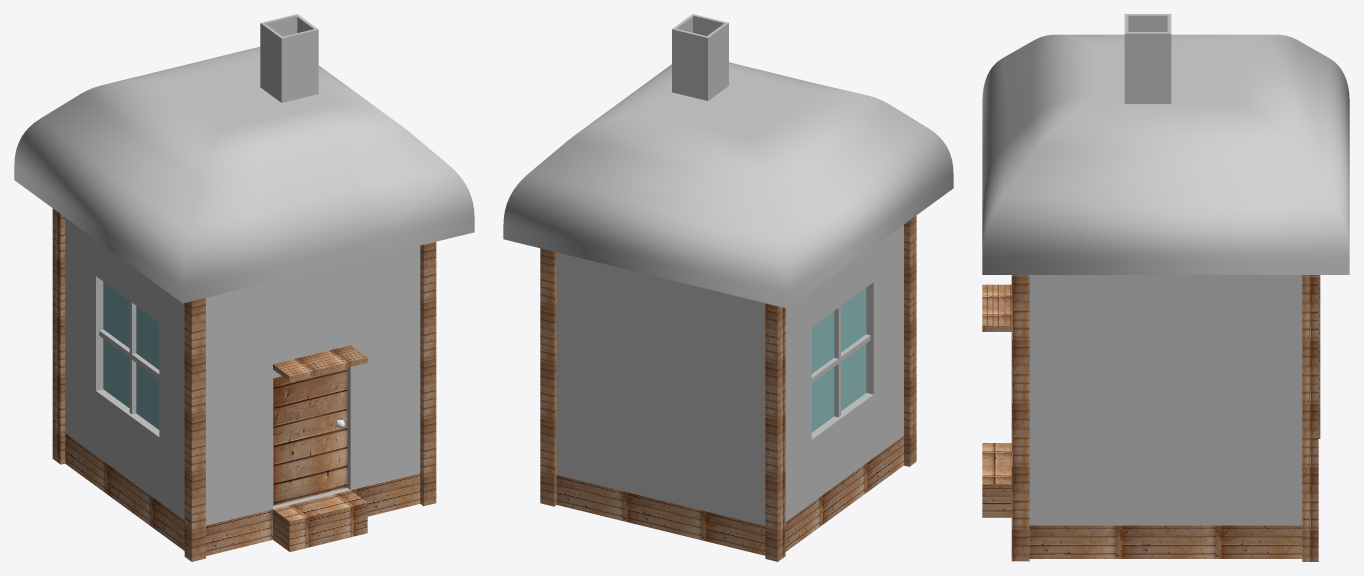
Rendered from house.FBX.
The picture shows the model from 3 angles, left to right: view 1: azimuth 30°, elevation 25°; view 2: azimuth 150°, elevation 25°; view 3: azimuth 270°, elevation 25°; orthographic projection. The views are drawn at different scales.
Visible parts, largest first — view 1: Roof, House, Line003, Door, Base, Window01, Chimney, Entrance, Door Cover; view 2: Roof, House, Line003, Base, Window01, Chimney; view 3: Roof, House, Line003, Base, Chimney, Entrance, Door Cover.
Boxes of the visible parts, bbox=[...] form: Roof: bbox=[14, 46, 474, 303]; House: bbox=[65, 218, 420, 525]; Line003: bbox=[52, 208, 436, 561]; Door: bbox=[273, 368, 347, 505]; Base: bbox=[65, 433, 420, 555]; Window01: bbox=[103, 282, 159, 429]; Chimney: bbox=[260, 14, 318, 102]; Entrance: bbox=[273, 490, 367, 551]; Door Cover: bbox=[273, 345, 367, 381]; Roof: bbox=[503, 62, 953, 308]; House: bbox=[556, 225, 903, 525]; Line003: bbox=[540, 215, 916, 561]; Base: bbox=[556, 436, 903, 555]; Window01: bbox=[811, 288, 866, 432]; Chimney: bbox=[672, 14, 728, 100]; Roof: bbox=[982, 34, 1349, 274]; House: bbox=[1029, 275, 1302, 525]; Line003: bbox=[1011, 275, 1320, 561]; Base: bbox=[1029, 525, 1302, 558]; Chimney: bbox=[1124, 14, 1171, 103]; Entrance: bbox=[982, 443, 1011, 517]; Door Cover: bbox=[982, 284, 1011, 331].
Bounding box in the file's own units: 10 × 14.8 × 10.
